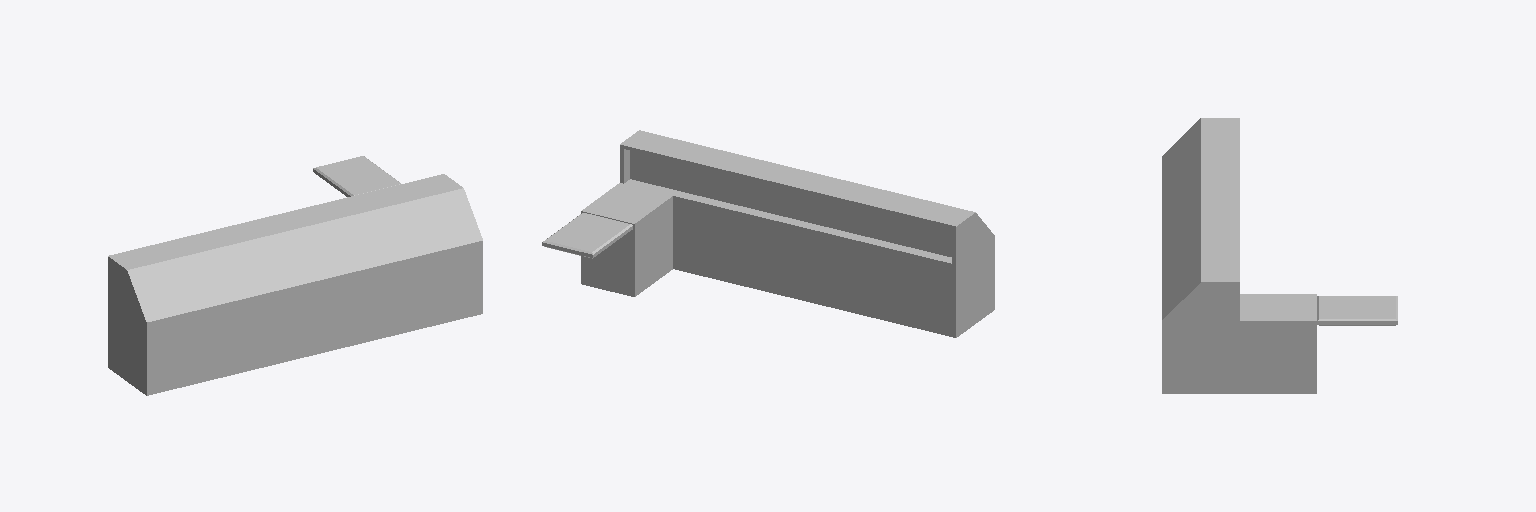
The model's file is Cashier Desk.obj.
3 renders of one model, left to right at view 1: azimuth 30°, elevation 25°; view 2: azimuth 150°, elevation 25°; view 3: azimuth 270°, elevation 25°, orthographic.
Parts seen in each view (by area): view 1: Cube_Cube.009, Cube.001_Cube.010; view 2: Cube_Cube.009, Cube.002_Cube.011, Cube.001_Cube.010; view 3: Cube_Cube.009, Cube.001_Cube.010.
Part boxes in pixels (bbox=[...]): Cube_Cube.009: bbox=[108, 174, 482, 395]; Cube.001_Cube.010: bbox=[313, 156, 400, 196]; Cube_Cube.009: bbox=[581, 130, 994, 337]; Cube.002_Cube.011: bbox=[630, 150, 951, 256]; Cube.001_Cube.010: bbox=[542, 213, 632, 258]; Cube_Cube.009: bbox=[1162, 118, 1316, 393]; Cube.001_Cube.010: bbox=[1317, 296, 1397, 325].
Size of the model in its own units: 4.8 by 1.52 by 2.91.